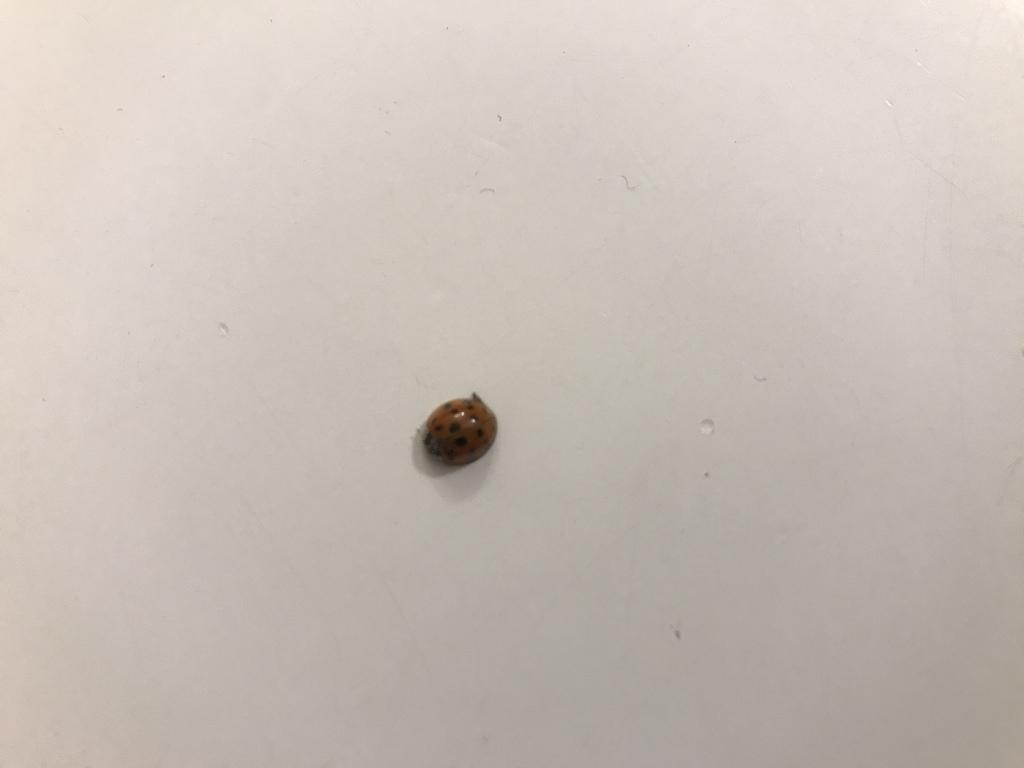ladybug: (420, 390, 502, 471)
